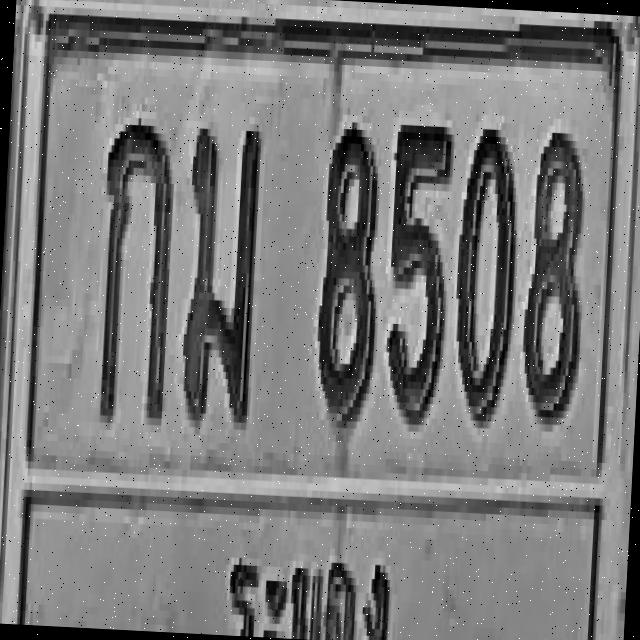0: (450, 121, 522, 422)
10GorGai: (92, 117, 178, 426)
42MorMa: (178, 118, 264, 426)
5: (382, 117, 454, 426)
8: (312, 118, 384, 434), (519, 124, 589, 426)
Rayong: (220, 530, 404, 640)
